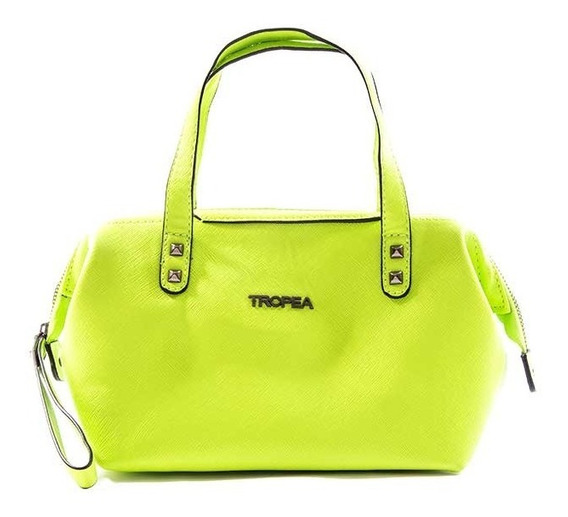cartera: (35, 26, 537, 474)
